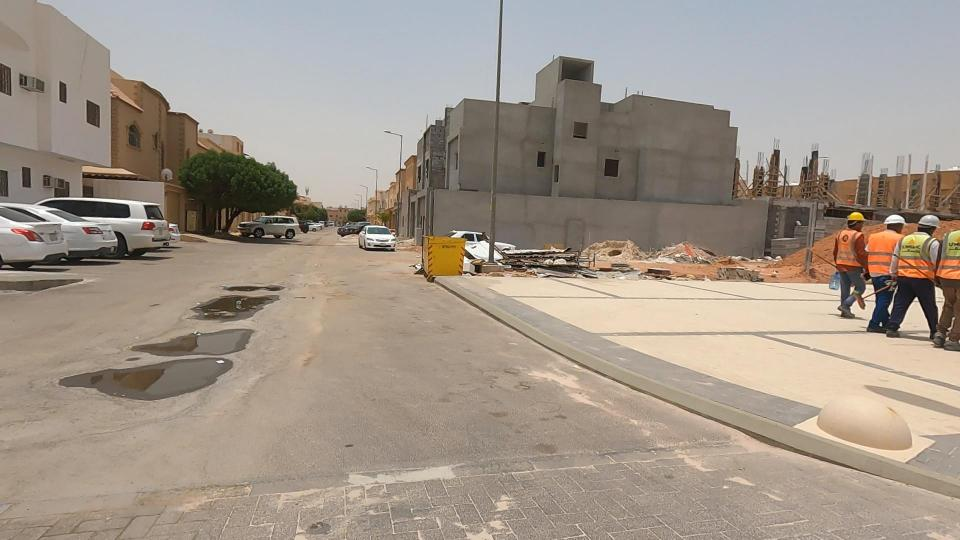GARBAGE: (454, 205, 639, 319), (647, 220, 762, 300), (719, 231, 799, 289)
POTHOLES: (164, 256, 308, 369)
